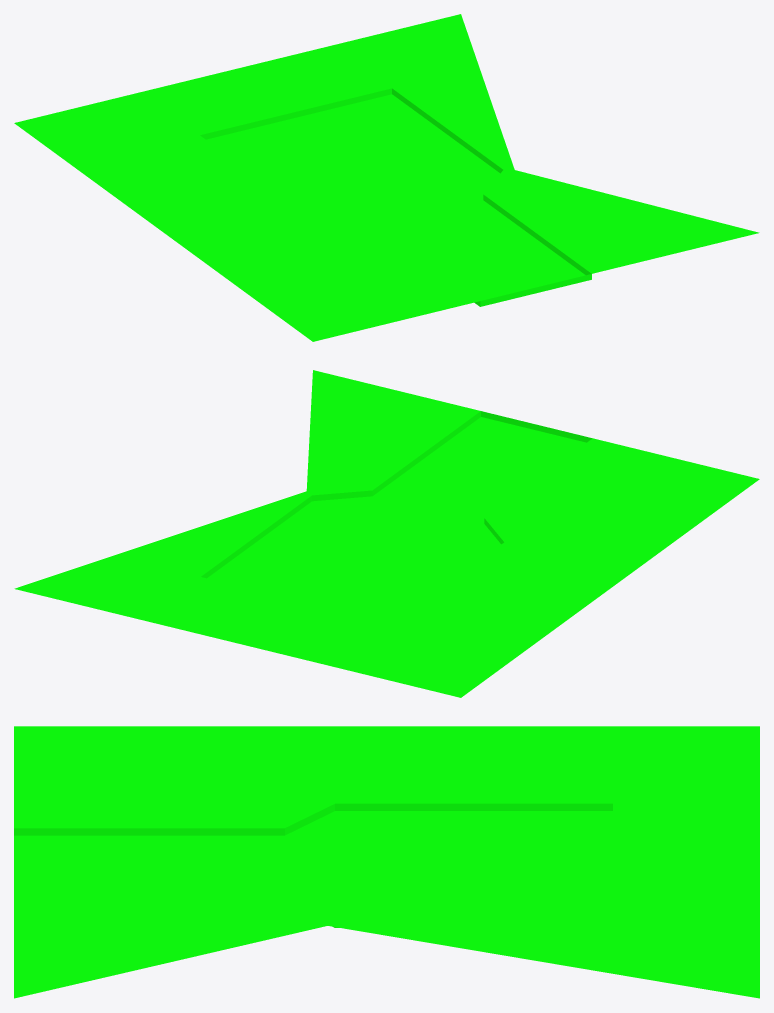
The model's file is s00a_nr1-floor.glb.
3 renders of one model, top to bottom at view 1: azimuth 30°, elevation 25°; view 2: azimuth 150°, elevation 25°; view 3: azimuth 270°, elevation 25°, orthographic. The views are drawn at different scales.
Parts seen in each view (by area): view 1: collision_floor-colonly; view 2: collision_floor-colonly; view 3: collision_floor-colonly.
Boxes of the visible parts, <box> form: collision_floor-colonly: <box>14,14,759,341</box>; collision_floor-colonly: <box>14,370,759,697</box>; collision_floor-colonly: <box>14,726,759,998</box>.
Bounding box in the file's own units: 20 × 0.25 × 23.17.
